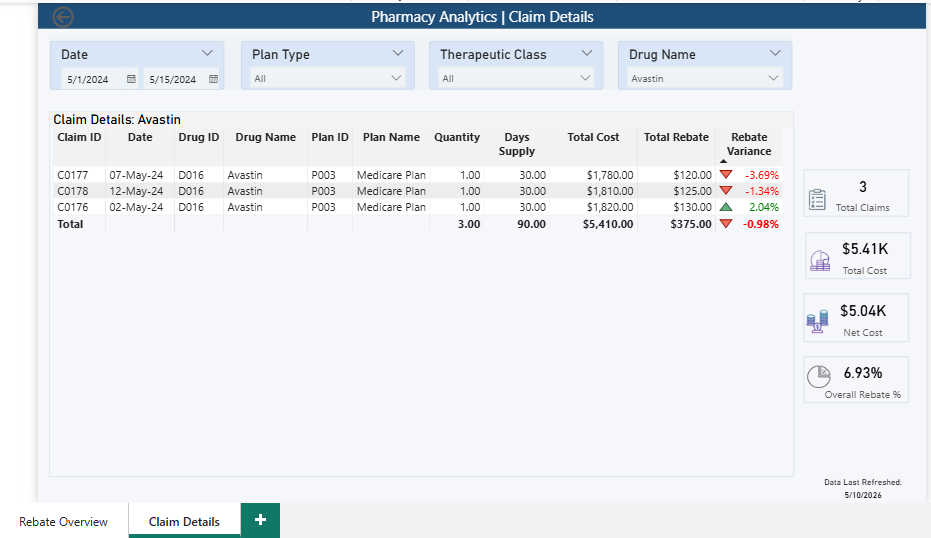

What the dashboard file says about the page in this screenshot:
{"tool":"powerbi","page":{"name":"Claim Details","canvas":[1280,720],"ordinal":2},"visuals":[{"type":"card","title":"Data Last Refreshed:","fields":{"Values":["Min(RefreshDate.RefreshDate)"]},"box":[1094.4,682.6,159.8,37.4],"z":0},{"type":"tableEx","fields":{"Values":["Claims.Claim_ID","Claims.Date","Claims.Drug_ID","Drugs.Drug_Name","Claims.Plan_ID","Plans.Plan_Name","Sum(Claims.Quantity)","Sum(Claims.Days_Supply)","Claims.Total Cost","Claims.Total Rebate","Claims.Rebate Variance %","select"]},"box":[15.8,187.2,1238.4,495.4],"z":1000},{"type":"shape","box":[0,0,1280.2,128.2],"z":2000},{"type":"image","box":[53.3,82.1,47.5,41.8],"z":3000},{"type":"slicer","fields":{"Values":["Drugs.Drug_Name"]},"box":[1073.2,20.2,181.1,57.6],"z":4000},{"type":"slicer","fields":{"Values":["Drugs.Therapeutic_Class"]},"box":[917.3,21.6,162.7,59],"z":5000},{"type":"slicer","fields":{"Values":["Plans.Plan_Type"]},"box":[763.2,23,162.7,60.5],"z":6000},{"type":"slicer","title":"Date","fields":{"Values":["Claims.Date"]},"box":[534.2,23,234.7,60.5],"z":7000},{"type":"actionButton","box":[15.8,146.9,1238.4,33.1],"z":8000},{"type":"image","box":[13,89.3,38.9,30.2],"z":9000},{"type":"group","id":"g1","title":"Group 13","box":[104.3,83.7,153,40.4],"z":10000},{"type":"actionButton","box":[104.3,83.7,152.8,38.9],"z":17000,"group":"g1"},{"type":"actionButton","box":[104.3,85.1,153,39],"z":18000,"group":"g1"}]}

Visuals, with their boxes on the page's 1280x720 design canvas (x1, y1, x2, y2). These are canvas units, not pixel positions in the 931x538 screenshot, which may show the page scaled, cropped or inside an application window:
"Data Last Refreshed:" card: Rect(1094, 683, 1254, 720)
tableEx - Claims.Claim_ID x Claims.Date: Rect(16, 187, 1254, 683)
shape: Rect(0, 0, 1280, 128)
image: Rect(53, 82, 101, 124)
slicer - Drugs.Drug_Name: Rect(1073, 20, 1254, 78)
slicer - Drugs.Therapeutic_Class: Rect(917, 22, 1080, 81)
slicer - Plans.Plan_Type: Rect(763, 23, 926, 84)
"Date" slicer: Rect(534, 23, 769, 84)
actionButton: Rect(16, 147, 1254, 180)
image: Rect(13, 89, 52, 120)
"Group 13" group: Rect(104, 84, 257, 124)
actionButton: Rect(104, 84, 257, 123)
actionButton: Rect(104, 85, 257, 124)
